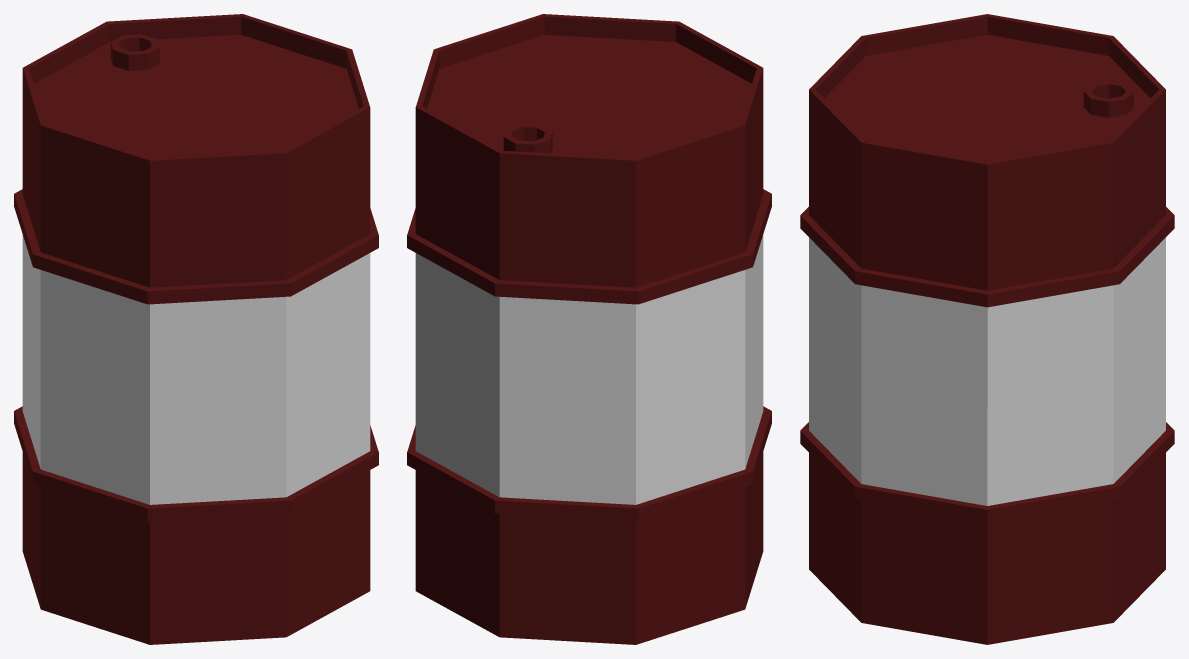
File: barrel.fbx
3 views of the same model, side by side, from view 1: azimuth 30°, elevation 25°; view 2: azimuth 150°, elevation 25°; view 3: azimuth 270°, elevation 25° (orthographic).
Parts seen in each view (by area): view 1: Cylinder; view 2: Cylinder; view 3: Cylinder.
Part boxes in pixels (x1=…): Cylinder: x1=14, y1=14, x2=378, y2=644; Cylinder: x1=407, y1=14, x2=771, y2=644; Cylinder: x1=800, y1=14, x2=1174, y2=644.
Bounding box in the file's own units: 210 × 297 × 210.
